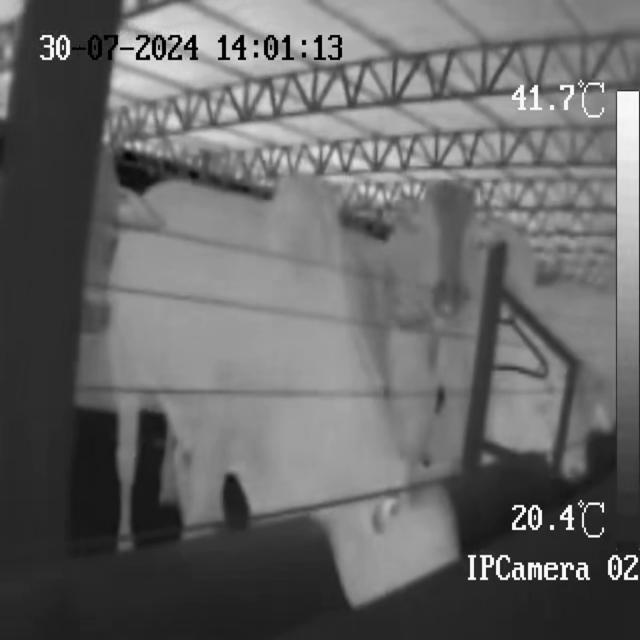head: (419, 177, 478, 320)
